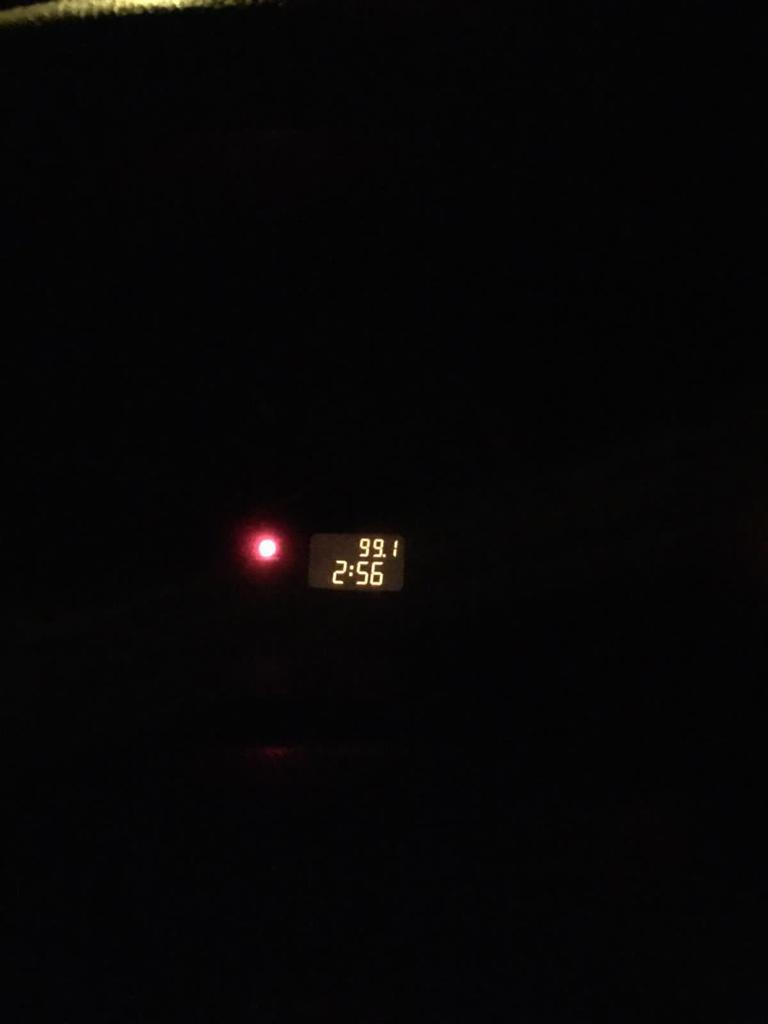,: (382, 553, 385, 557)
1: (390, 538, 399, 557)
2: (331, 557, 347, 585)
5: (354, 560, 368, 585)
6: (369, 560, 383, 586)
9: (357, 536, 370, 557), (370, 537, 383, 557)
X: (347, 563, 354, 577)
odometer: (300, 529, 408, 594)
